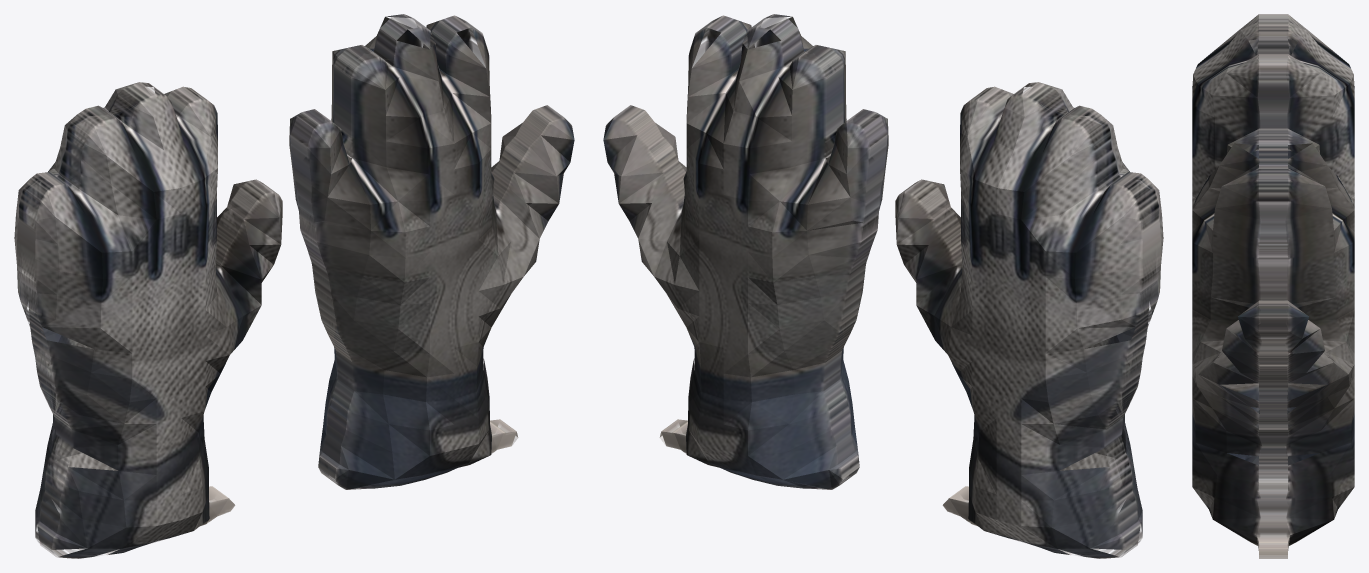
The model's file is puig-circuit-touring-glove-095.glb.
3 renders of one model, left to right at view 1: azimuth 30°, elevation 25°; view 2: azimuth 150°, elevation 25°; view 3: azimuth 270°, elevation 25°, orthographic. The views are drawn at different scales.
Parts seen in each view (by area): view 1: world; view 2: world; view 3: world.
Boxes of the visible parts, bbox=[...] form: world: bbox=[14, 14, 574, 558]; world: bbox=[603, 14, 1163, 558]; world: bbox=[1192, 14, 1354, 558].
Bounding box in the file's own units: 1 × 0.8036 × 0.3.
Materials: 1 (1 with a texture image).
